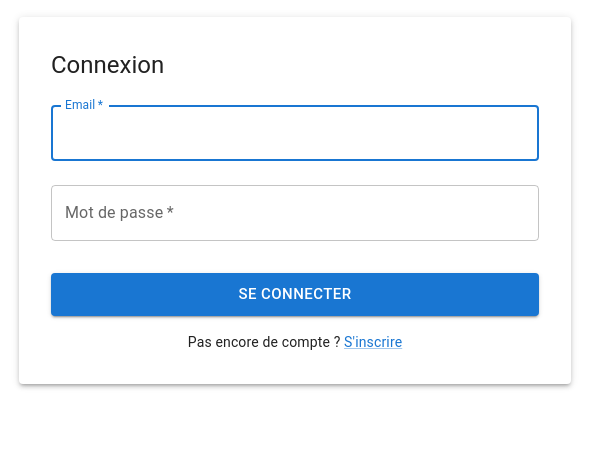
it: LoginPage › shows generic error message when API returns no detail
The image size is (591, 470).
Click the button "Se connecter": (295, 295) [51,273,539,316]
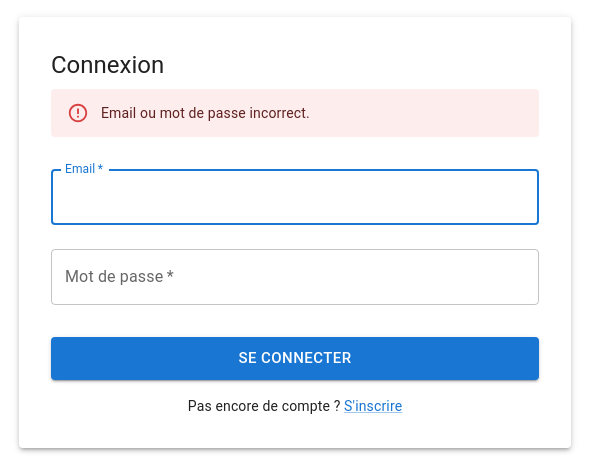
Result: the text "Email ou mot de passe incorrect." is shown at [101,105,310,121]
